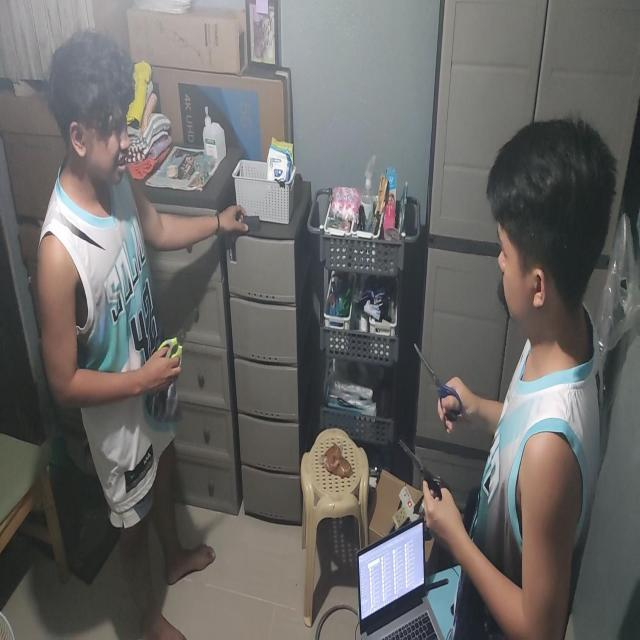scissor: (413, 342, 462, 422), (398, 438, 452, 509), (156, 307, 198, 372)
